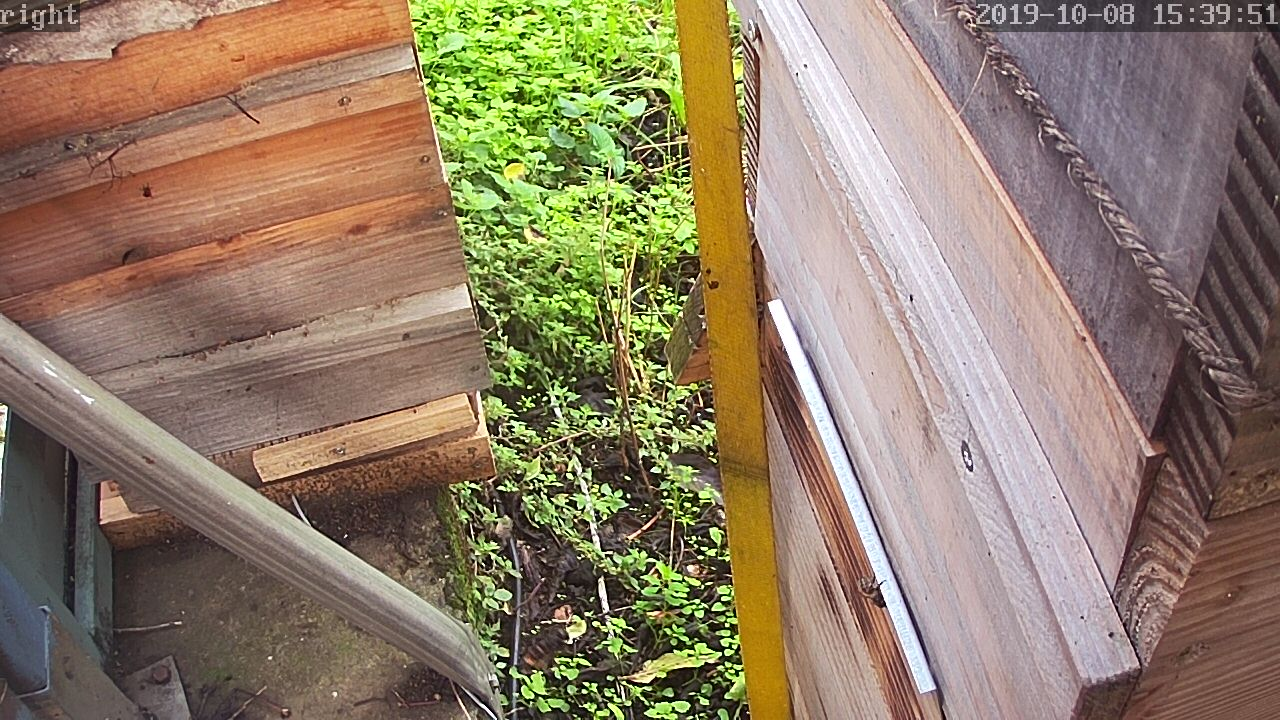bee: (856, 575, 889, 610)
